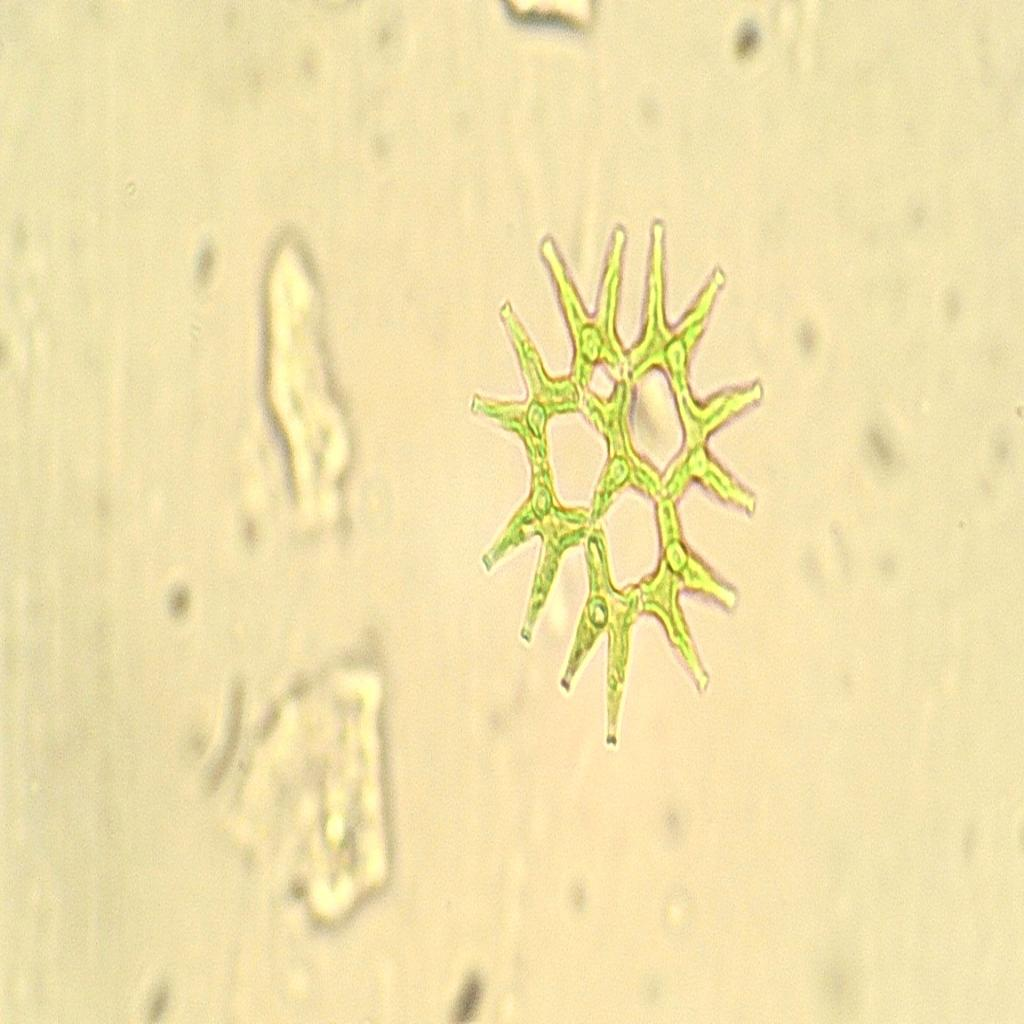Pediastrum_75T: (453, 187, 779, 773)
